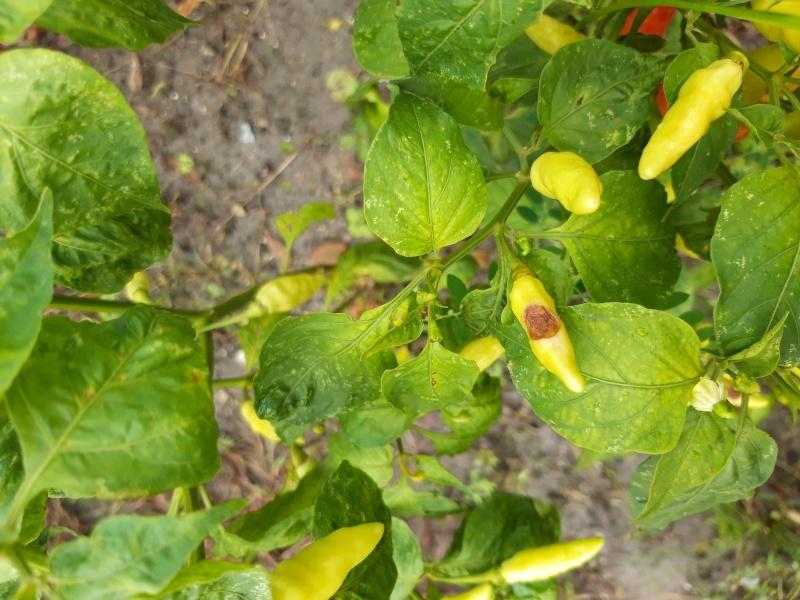antraknosa: (505, 268, 592, 399)
cabai_normal: (638, 57, 743, 179), (264, 521, 393, 600), (498, 534, 607, 583), (530, 151, 605, 215), (255, 272, 326, 315)
